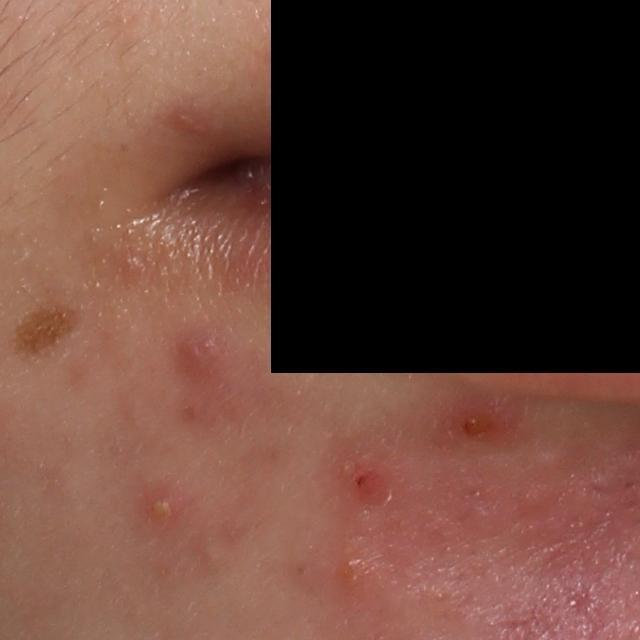atrophic_scar: (588, 480, 616, 500)
nevus: (19, 303, 77, 351)
papule: (174, 324, 235, 386), (445, 405, 514, 441), (338, 463, 385, 503), (338, 552, 381, 592), (171, 105, 204, 137)
pustule: (140, 485, 188, 536)
